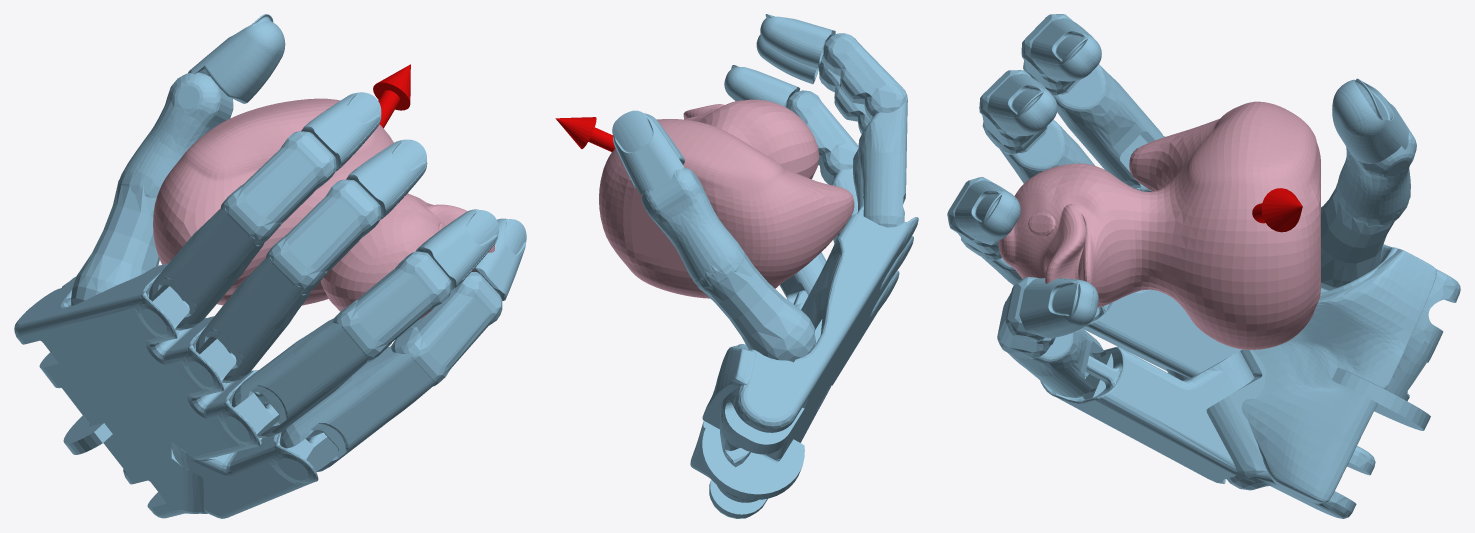
The picture shows the model from 3 angles, left to right: view 1: azimuth 30°, elevation 25°; view 2: azimuth 150°, elevation 25°; view 3: azimuth 270°, elevation 25°; orthographic projection. The views are drawn at different scales.
Parts seen in each view (by area): view 1: world, rubber_duck.stl; view 2: world, rubber_duck.stl; view 3: world, rubber_duck.stl.
Boxes of the visible parts, x1,y1,x2,y2 form: world: (14,14,526,518); rubber_duck.stl: (153,98,494,319); world: (555,14,918,518); rubber_duck.stl: (599,99,854,298); world: (947,14,1460,518); rubber_duck.stl: (998,101,1320,349).
Bounding box in the file's own units: 0.1294 × 0.1705 × 0.1527.
